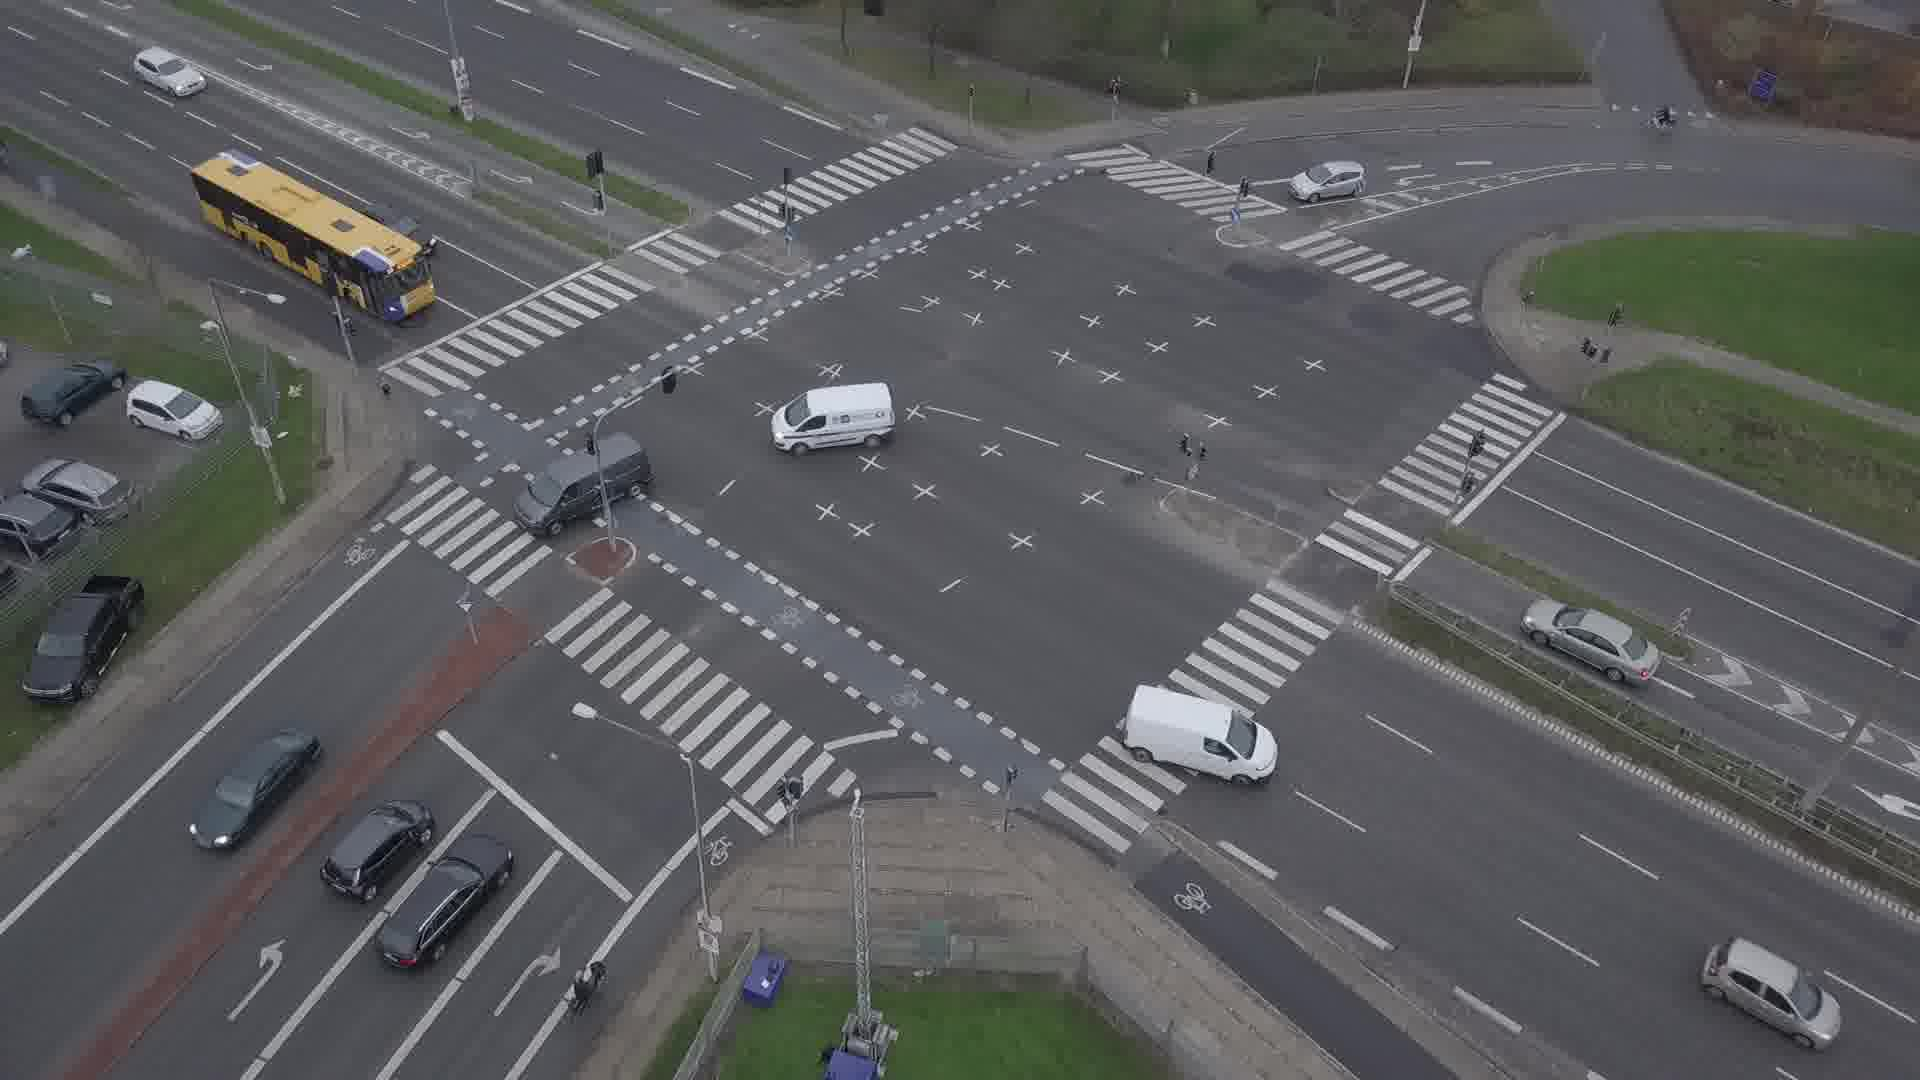bicycle: (567, 960, 609, 1017), (1640, 102, 1685, 131)
bus: (190, 148, 435, 322)
car: (377, 832, 516, 974), (187, 728, 321, 853), (1702, 937, 1841, 1050), (1520, 597, 1662, 685), (319, 799, 436, 903), (360, 204, 438, 257), (133, 49, 206, 97), (1288, 161, 1368, 203)
lorry: (1124, 684, 1279, 788), (512, 431, 652, 538), (771, 382, 896, 456)
